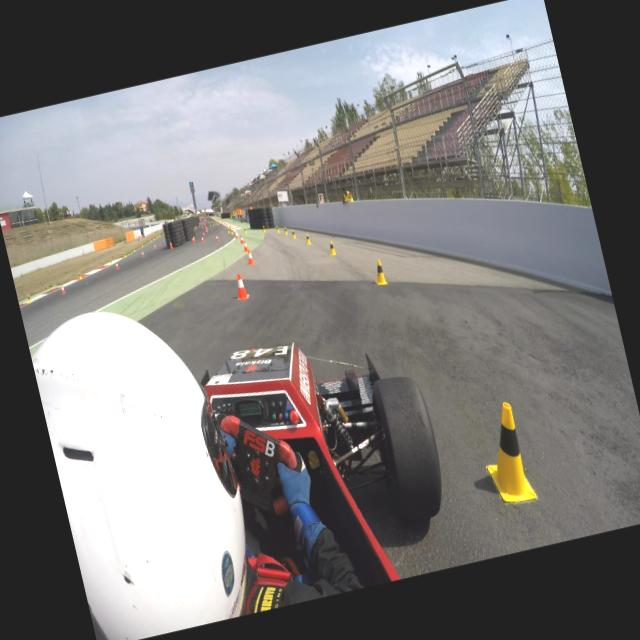orange_cone: (231, 272, 249, 300), (246, 248, 253, 264), (242, 240, 248, 252), (60, 284, 66, 294), (238, 234, 244, 243), (168, 241, 172, 248), (115, 262, 118, 269), (200, 235, 203, 242), (215, 234, 218, 240), (234, 232, 237, 238), (141, 250, 144, 256), (192, 235, 195, 241), (191, 236, 194, 242), (202, 232, 205, 236)
yellow_cone: (473, 399, 537, 507), (370, 257, 388, 286), (326, 239, 336, 255), (304, 232, 311, 245), (290, 228, 296, 240), (26, 294, 31, 304), (283, 226, 288, 234), (78, 271, 82, 279), (275, 225, 279, 232), (262, 225, 266, 232), (132, 246, 136, 252), (242, 227, 246, 233), (109, 258, 112, 265), (227, 227, 230, 234), (123, 252, 126, 258), (230, 228, 232, 234)
